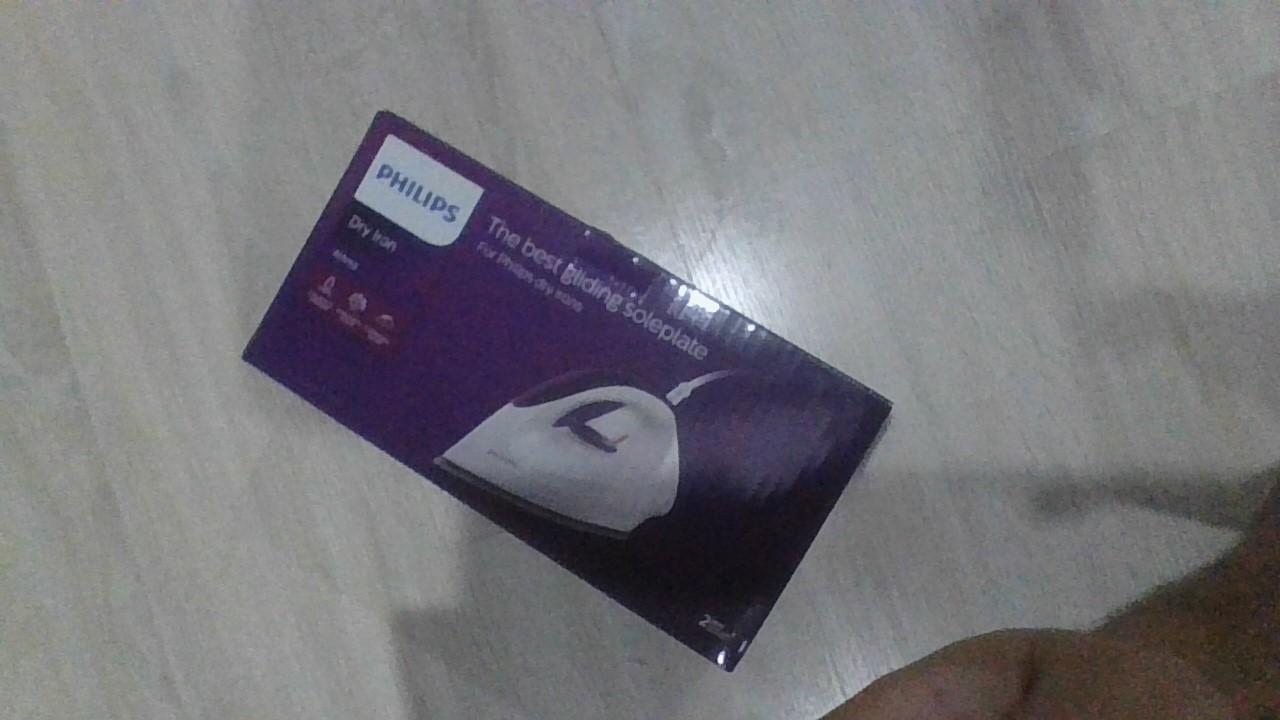IRON: (237, 106, 897, 676)
